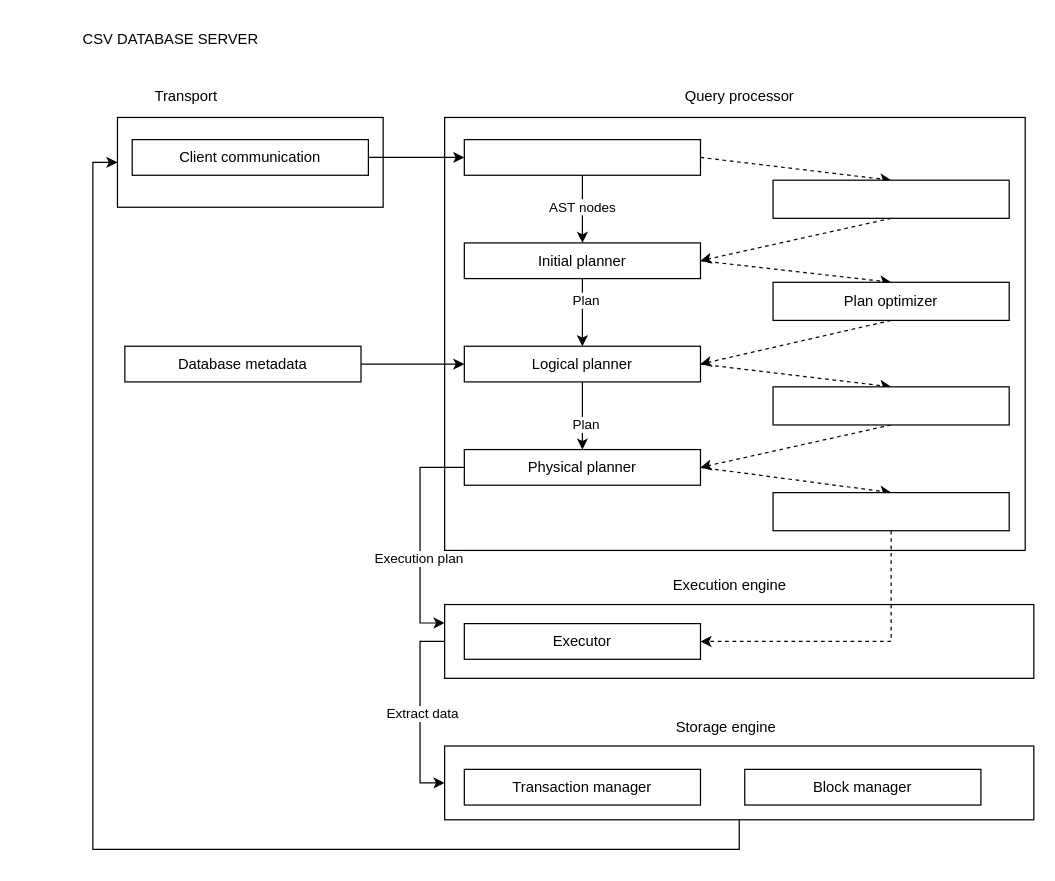
Some shapes in this 1055 by 881 pixel diagram are drawn without their labels. Each missing label, with the box of its shape:
Logical Plan optimizer: (772, 386, 1009, 425)
Physical Plan optimizer: (772, 491, 1009, 531)
Query optimizer: (772, 179, 1009, 218)
Query parser: (463, 138, 700, 175)
